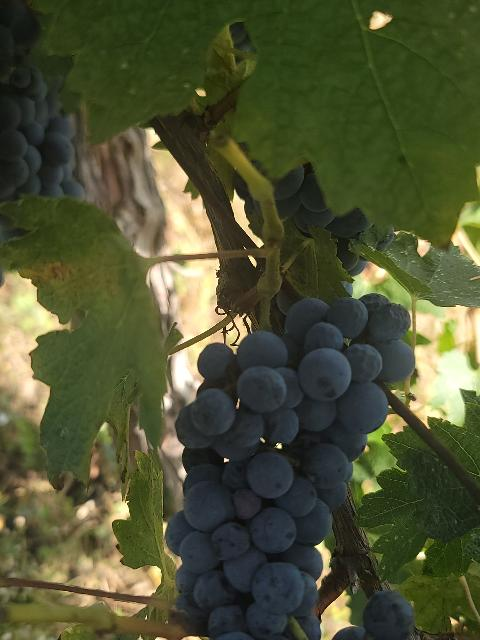grapes: (165, 298, 414, 640)
